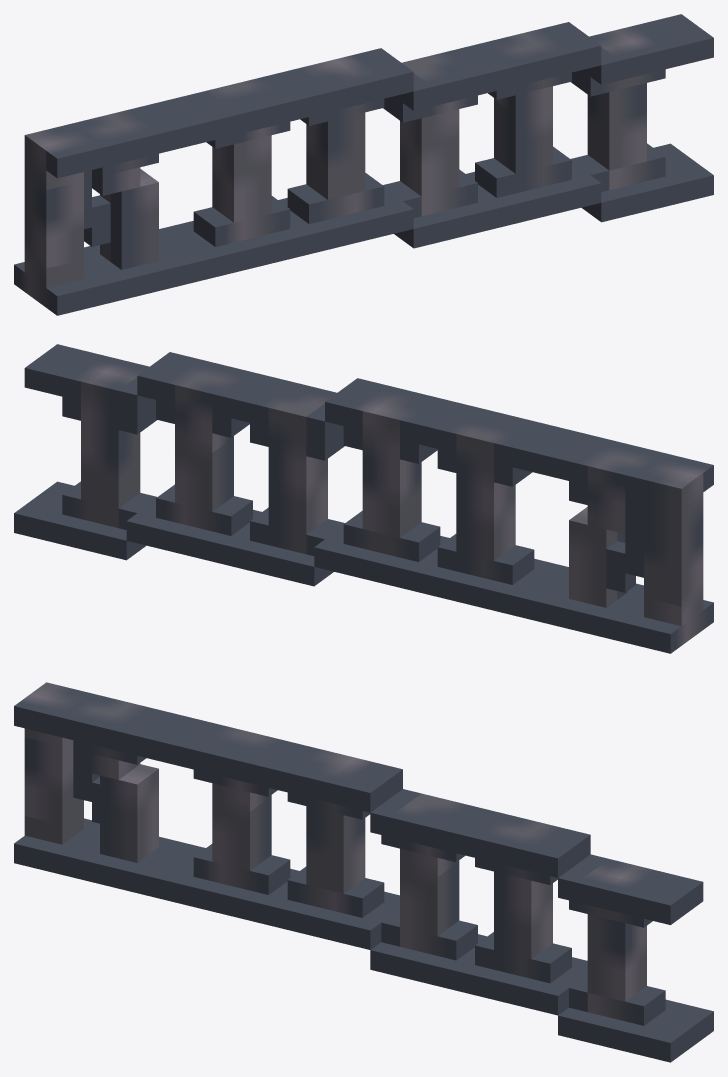
The model's file is FenceModule-1.fbx.
3 renders of one model, top to bottom at view 1: azimuth 30°, elevation 25°; view 2: azimuth 150°, elevation 25°; view 3: azimuth 330°, elevation 25°, orthographic.
Visible parts, largest first — view 1: FenceModule-1; view 2: FenceModule-1; view 3: FenceModule-1.
Part boxes in pixels (<box>): FenceModule-1: <box>14,14,713,315</box>; FenceModule-1: <box>14,344,713,653</box>; FenceModule-1: <box>14,682,713,1062</box>.
Size of the model in its own units: 175 by 50 by 20.
